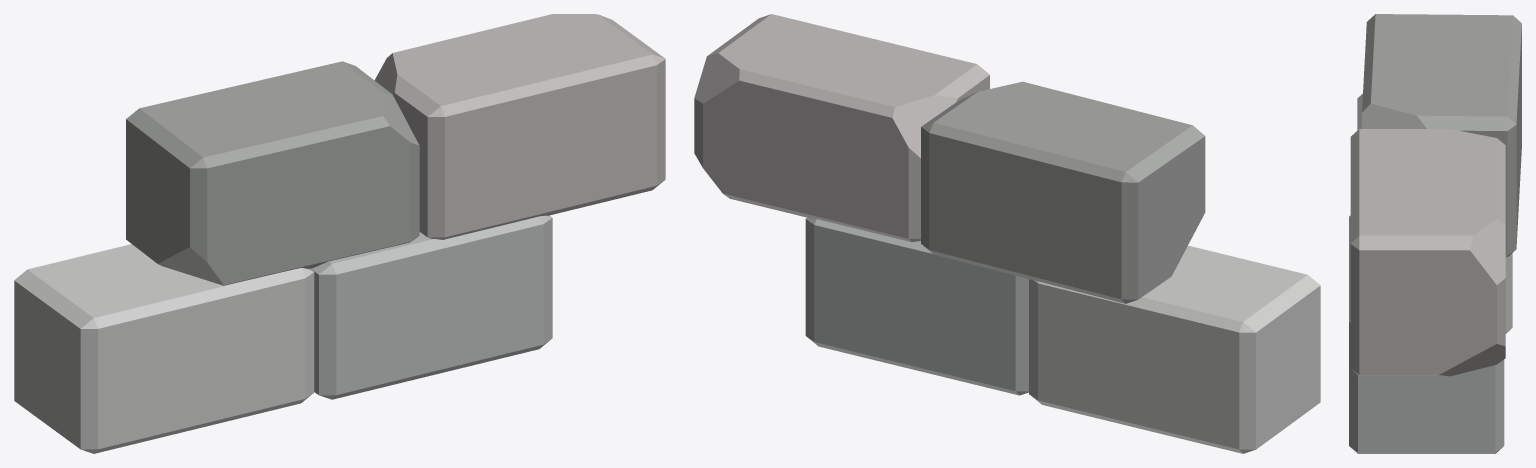
The model's file is Rock_Blocks_m_02.fbx.
3 views of the same model, side by side, from view 1: azimuth 30°, elevation 25°; view 2: azimuth 150°, elevation 25°; view 3: azimuth 270°, elevation 25° (orthographic). The views are drawn at different scales.
Parts seen in each view (by area): view 1: Rock_Blocks_m_02; view 2: Rock_Blocks_m_02; view 3: Rock_Blocks_m_02.
Part boxes in pixels (x1,y1,x2,y2): Rock_Blocks_m_02: (14, 14, 665, 453); Rock_Blocks_m_02: (694, 14, 1320, 453); Rock_Blocks_m_02: (1349, 14, 1521, 453).
Size of the model in its own units: 282 by 124 by 70.18.
